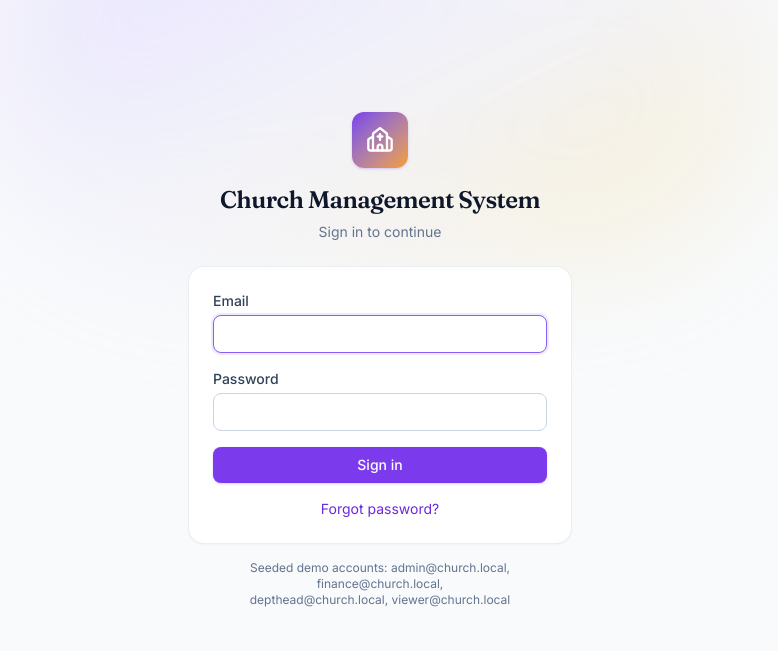
Test: LoginPage › shows an error message for invalid credentials and does not store a token
Type "admin@church.local" into the field labelled "Email".
click(380, 334); type("admin@church.local")  # box [213, 315, 547, 353]
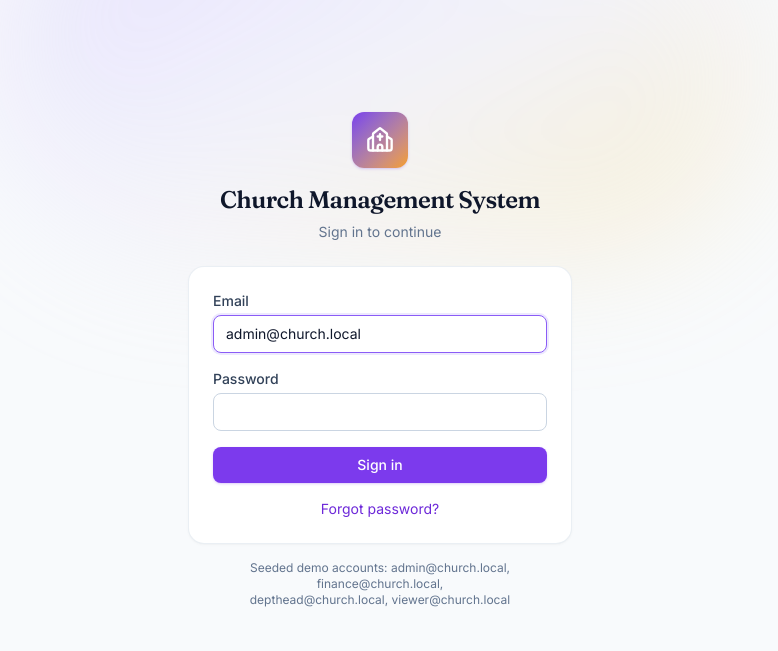
Type "wrong-password" into the password field labelled "Password".
click(380, 412); type("wrong-password")  # box [213, 393, 547, 431]
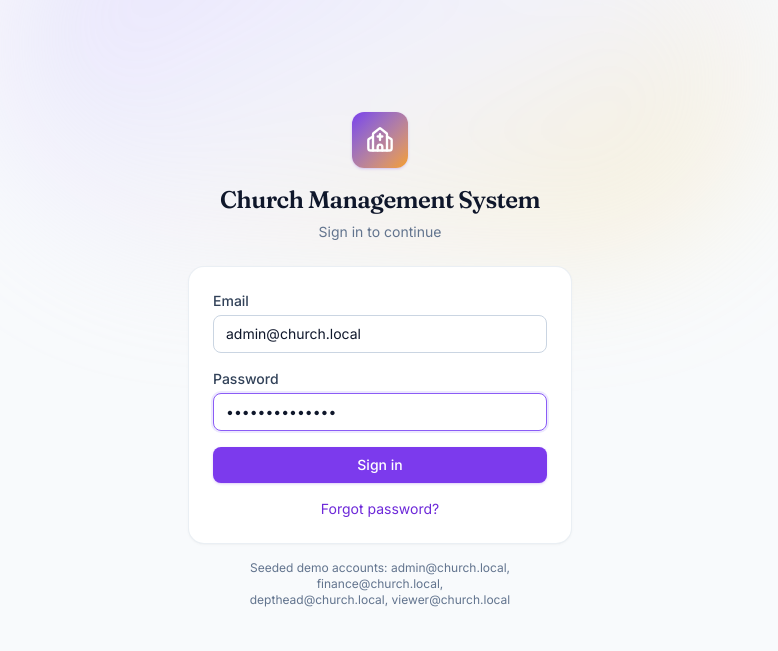
Click the button "Sign in".
click(380, 465)  # box [213, 447, 547, 483]
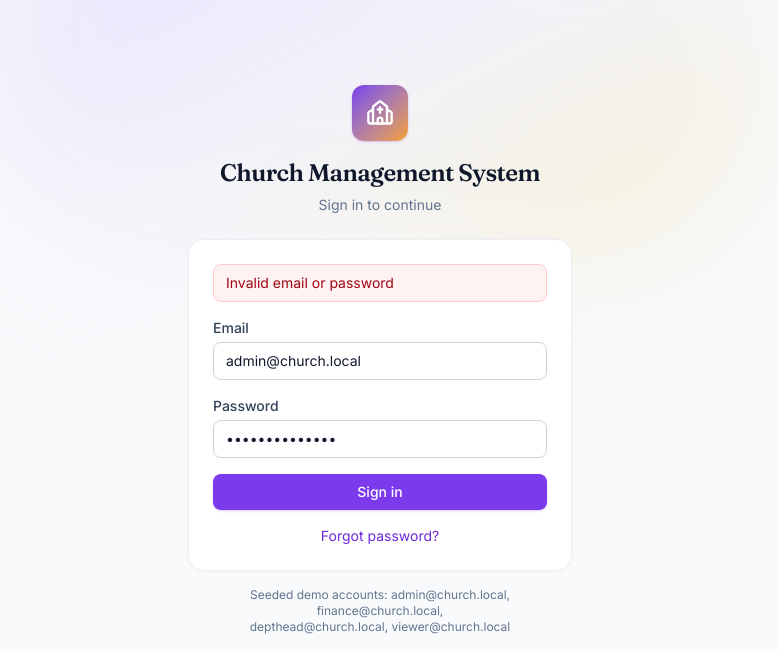
Result: the text "Invalid email or password" is shown at [213, 264, 547, 302]
